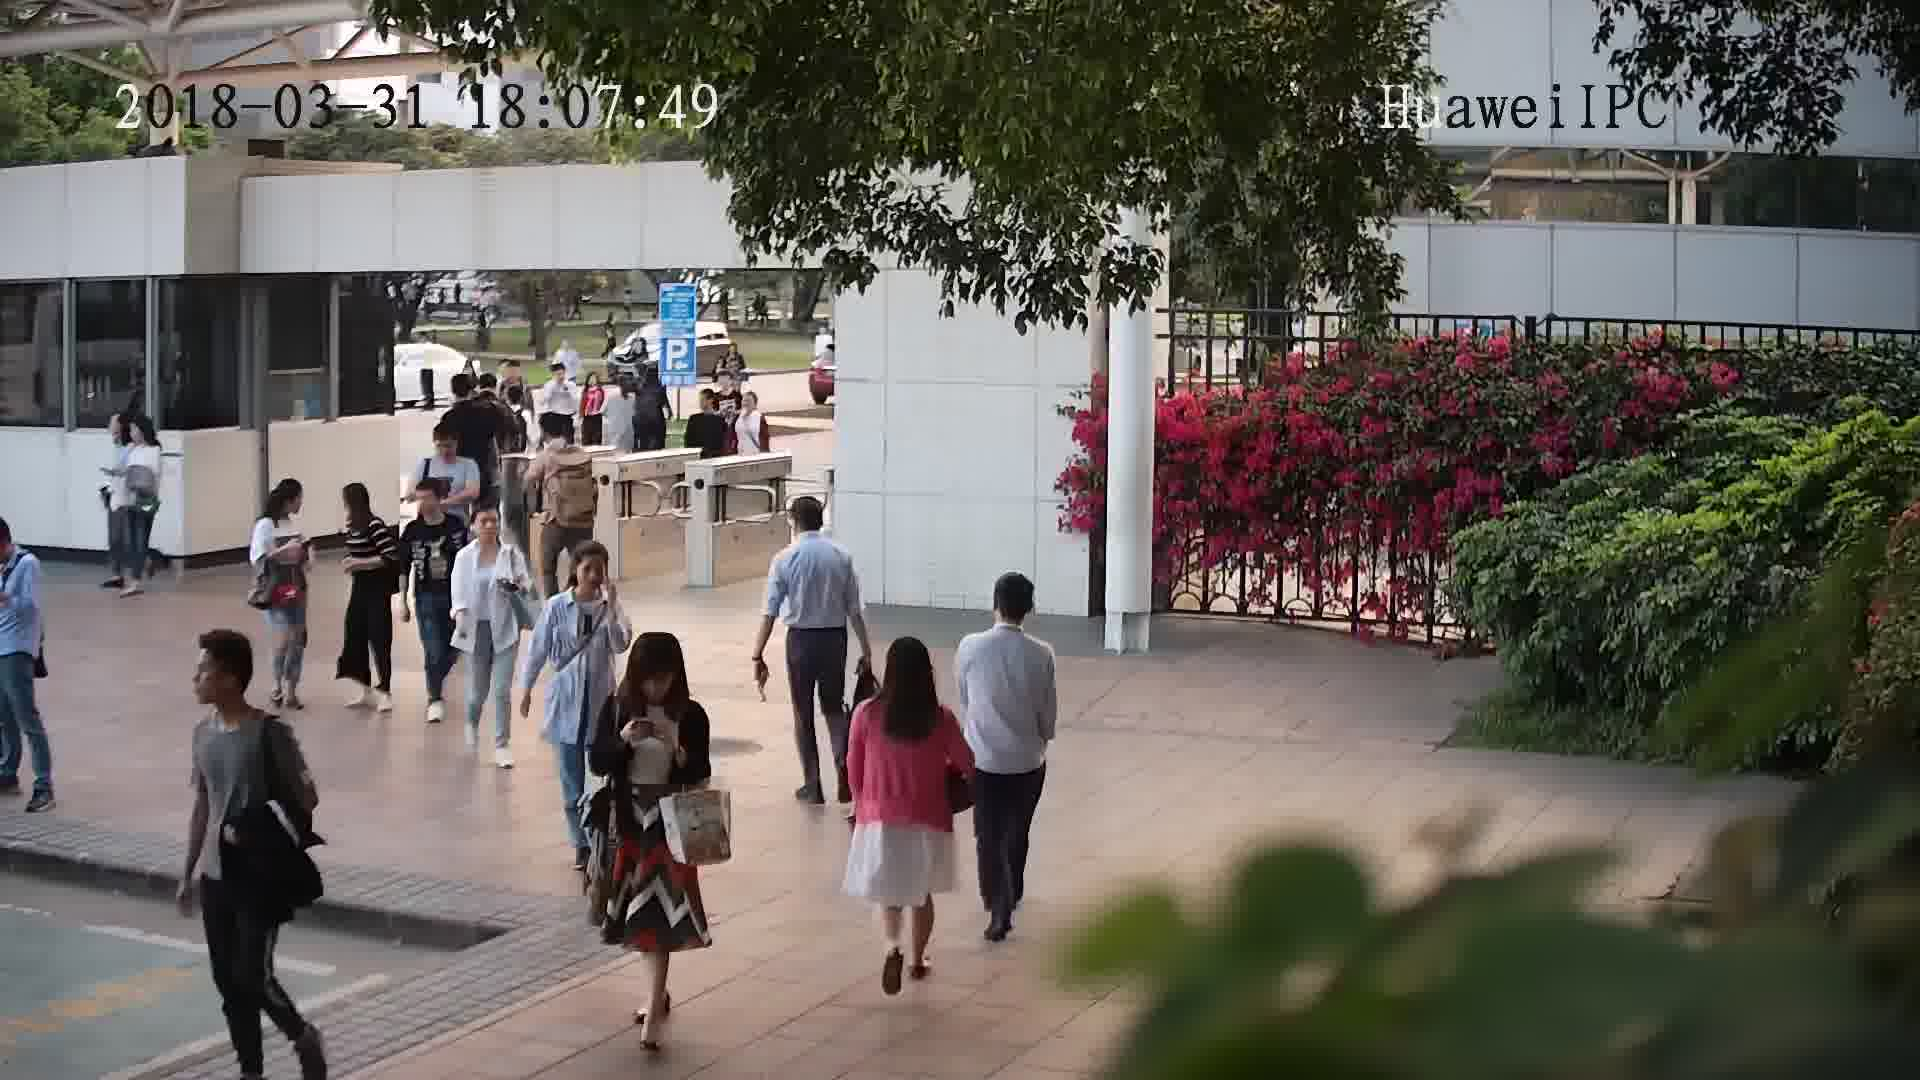face: (178, 642, 241, 704), (573, 553, 609, 589)
person: (183, 629, 293, 758), (855, 632, 956, 733), (604, 629, 703, 726), (960, 568, 1055, 670), (542, 537, 623, 620), (775, 492, 856, 573), (454, 497, 526, 572), (403, 474, 465, 540), (256, 473, 309, 540), (339, 478, 394, 541), (417, 423, 479, 477), (532, 410, 586, 469), (1, 513, 46, 584), (120, 412, 167, 467), (447, 373, 495, 423), (685, 386, 729, 430), (730, 390, 771, 429), (103, 409, 131, 457), (540, 362, 577, 396), (714, 371, 742, 404), (578, 368, 603, 403)
